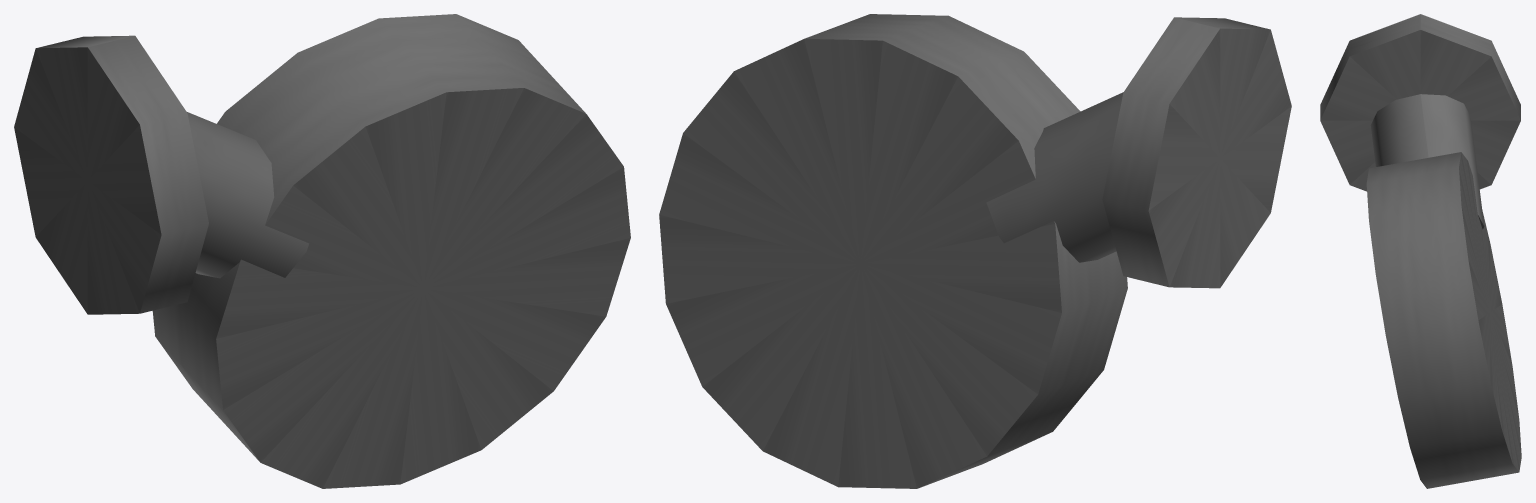
Rendered from mastarmcurve_5x1_c3_west.obj.
3 views of the same model, side by side, from view 1: azimuth 30°, elevation 25°; view 2: azimuth 150°, elevation 25°; view 3: azimuth 270°, elevation 25° (orthographic). The views are drawn at different scales.
Parts seen in each view (by area): view 1: mastarm_5x1_c3_west; view 2: mastarm_5x1_c3_west; view 3: mastarm_5x1_c3_west.
Part boxes in pixels (bbox=[...]): mastarm_5x1_c3_west: bbox=[14, 14, 630, 488]; mastarm_5x1_c3_west: bbox=[659, 14, 1291, 488]; mastarm_5x1_c3_west: bbox=[1320, 14, 1521, 488].
Bounding box in the file's own units: 0.824 × 0.7773 × 0.4014.
